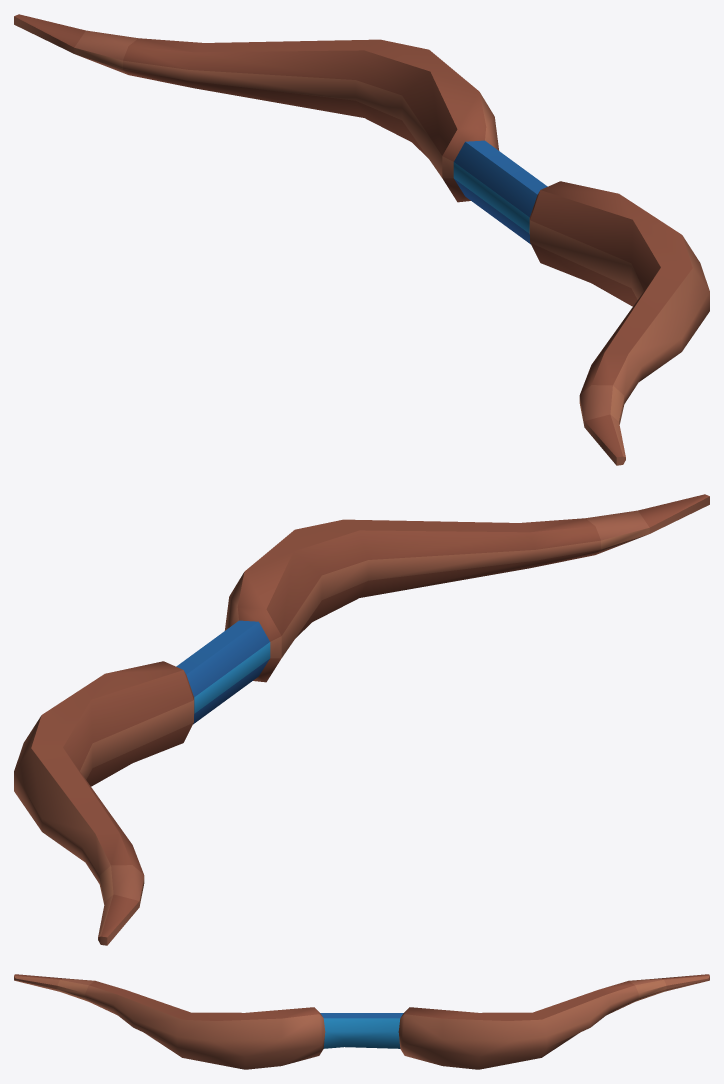
Rendered from bow.glb.
3 renders of one model, top to bottom at view 1: azimuth 30°, elevation 25°; view 2: azimuth 150°, elevation 25°; view 3: azimuth 270°, elevation 25°, orthographic. The views are drawn at different scales.
Bounding box in the file's own units: 0.4904 × 0.1549 × 1.98.
Materials: 1 (1 with a texture image).
